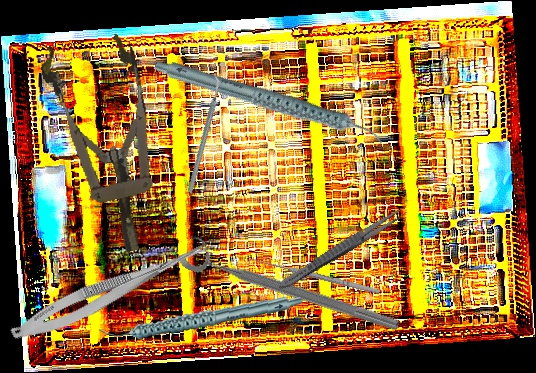Chopper: (147, 74, 259, 194)
Dressing Forceps: (275, 201, 412, 294)
Fixation Ring: (175, 231, 406, 337)
Handpiece: (152, 16, 386, 191), (97, 285, 304, 350)
Hook Surgical: (247, 254, 381, 301)
Micro Scissor: (6, 225, 220, 351)
Speculum: (36, 28, 178, 262)
